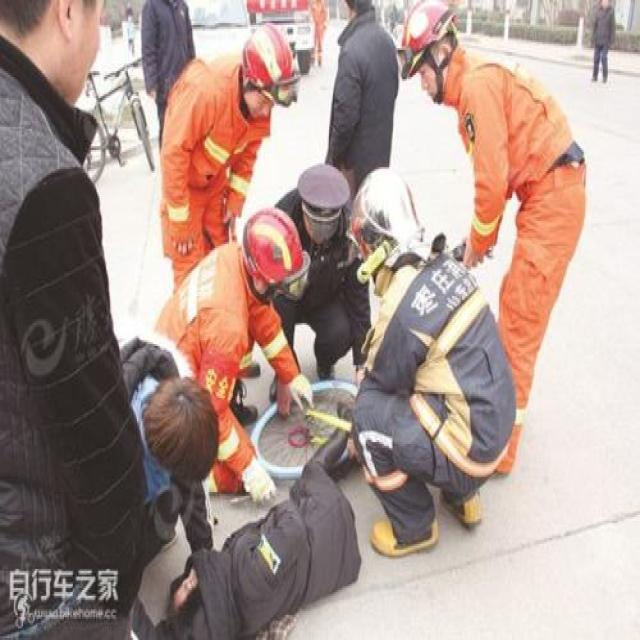10-: (1, 0, 613, 632)
down: (164, 384, 360, 634)
